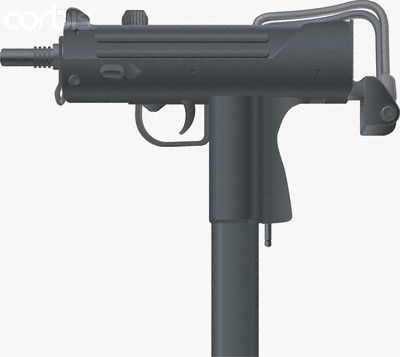rifle: (8, 3, 394, 347)
